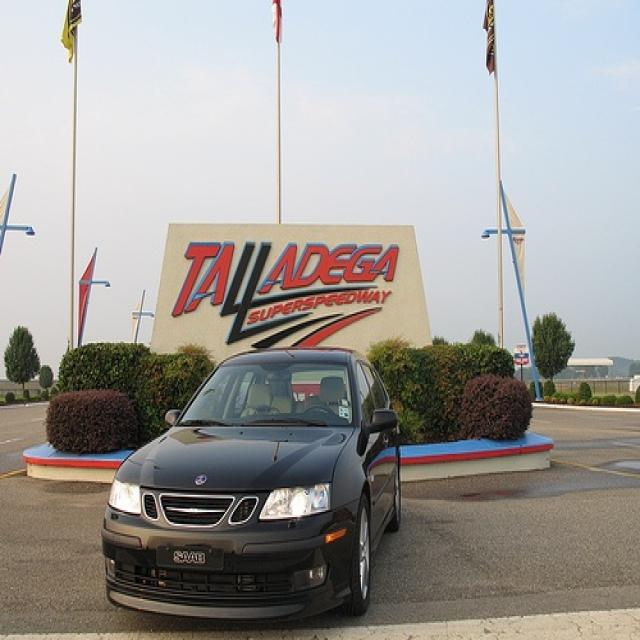car: (94, 345, 410, 621)
